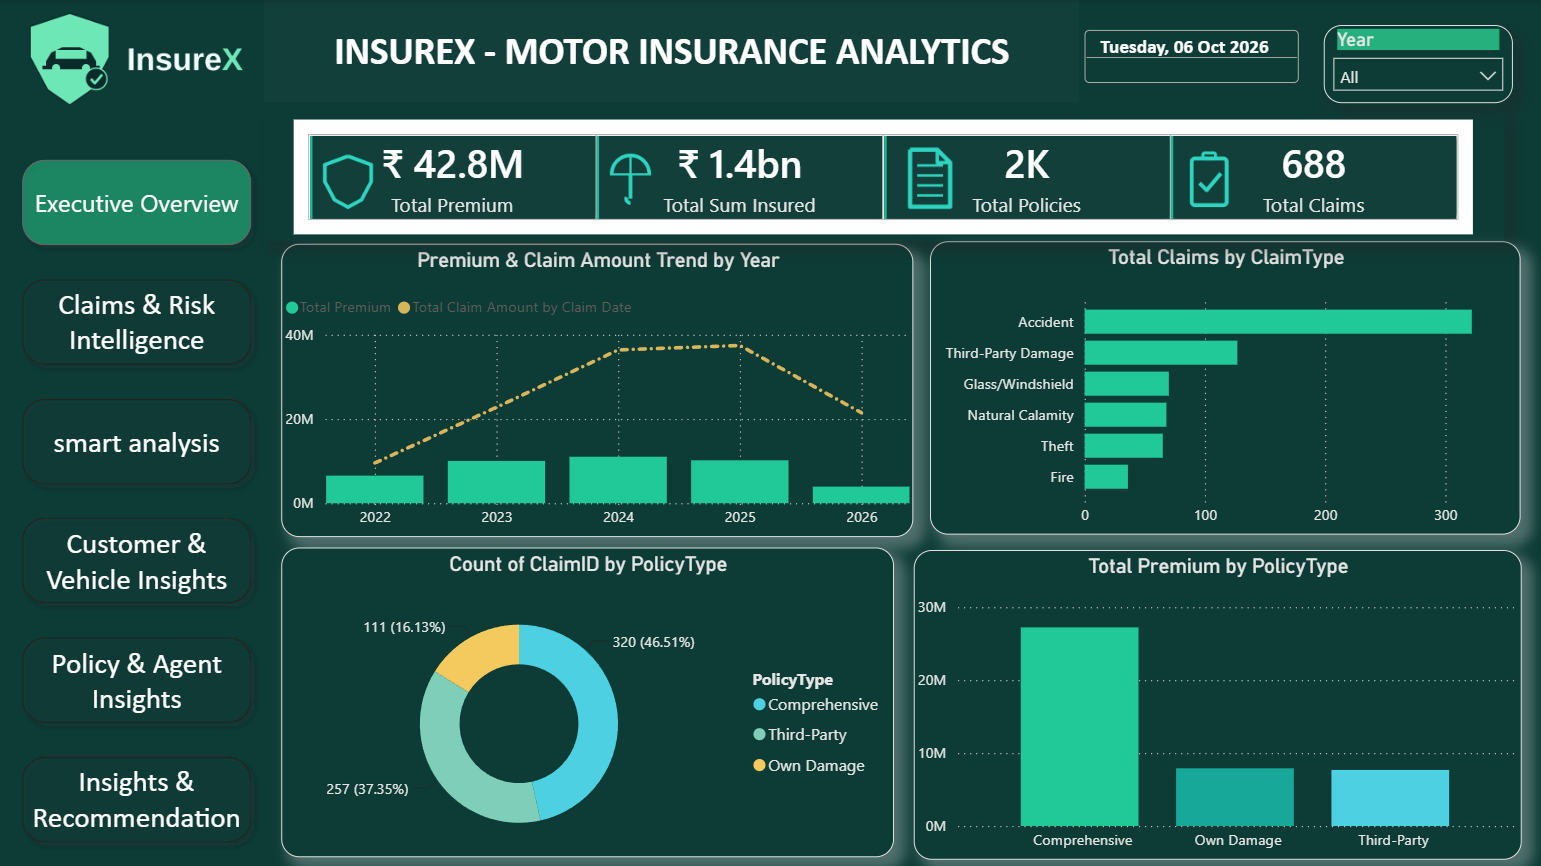

This screenshot's page, from the dashboard's own definition file:
{"tool":"powerbi","page":{"name":"Executive Overview","canvas":[1280,720],"ordinal":0},"visuals":[{"type":"lineClusteredColumnComboChart","title":"Premium & Claim Amount Trend by Year","fields":{"Category":["DateTable.Year"],"Y":["Policies.Total Premium"],"Y2":["Claims.Total Claim Amount by Claim Date"]},"box":[233.3,201.7,524.2,242.9],"z":0},{"type":"donutChart","fields":{"Y":["CountNonNull(Claims.ClaimID)"],"Category":["Policies.PolicyType"]},"box":[233.3,454.2,507.7,256.6],"z":1000},{"type":"clusteredBarChart","fields":{"Category":["Claims.ClaimType"],"Y":["Claims.Total Claims"]},"box":[771.2,200.3,489.9,242.9],"z":2000},{"type":"clusteredColumnChart","fields":{"Category":["Policies.PolicyType"],"Y":["Policies.Total Premium"]},"box":[757.5,455.6,503.6,256.6],"z":3000},{"type":"slicer","fields":{"Values":["DateTable.Year"]},"box":[1097.8,20.6,156.4,64.5],"z":4000},{"type":"cardVisual","fields":{"Data":["Policies.Total Premium","Policies.Total Sum Insured","Policies.Total Policies","Claims.Total Claims"]},"box":[218.2,94.7,1027.8,105.7],"z":5000},{"type":"textbox","box":[218.2,0,676.5,85.1],"z":6000},{"type":"image","box":[0,0,348.5,94.7],"z":7000},{"type":"pageNavigator","box":[9.6,123.5,208.6,587.3],"z":8000},{"type":"cardVisual","fields":{"Rows":["Agents.Today's Date"]},"box":[894.7,0,188,94.7],"z":9000},{"type":"image","box":[242.9,124.9,91.9,50.8],"z":10000},{"type":"image","box":[487.1,123.5,71.4,50.8],"z":11000},{"type":"image","box":[732.8,118,76.8,59],"z":12000},{"type":"image","box":[949.6,122.1,107,53.5],"z":14000}]}

Visuals, with their boxes in screenshot pixels (x1, y1, x2, y2), scaled from the page's 1280x720 canvas onto the 1541x866 screenshot:
"Premium & Claim Amount Trend by Year" lineClusteredColumnComboChart: x1=281, y1=243, x2=912, y2=535
donutChart - CountNonNull(Claims.ClaimID) x Policies.PolicyType: x1=281, y1=546, x2=892, y2=855
clusteredBarChart - Claims.ClaimType x Claims.Total Claims: x1=928, y1=241, x2=1518, y2=533
clusteredColumnChart - Policies.PolicyType x Policies.Total Premium: x1=912, y1=548, x2=1518, y2=857
slicer - DateTable.Year: x1=1322, y1=25, x2=1510, y2=102
cardVisual - Policies.Total Premium x Policies.Total Sum Insured: x1=263, y1=114, x2=1500, y2=241
textbox: x1=263, y1=0, x2=1077, y2=102
image: x1=0, y1=0, x2=420, y2=114
pageNavigator: x1=12, y1=149, x2=263, y2=855
cardVisual - Agents.Today's Date: x1=1077, y1=0, x2=1303, y2=114
image: x1=292, y1=150, x2=403, y2=211
image: x1=586, y1=149, x2=672, y2=210
image: x1=882, y1=142, x2=975, y2=213
image: x1=1143, y1=147, x2=1272, y2=211
